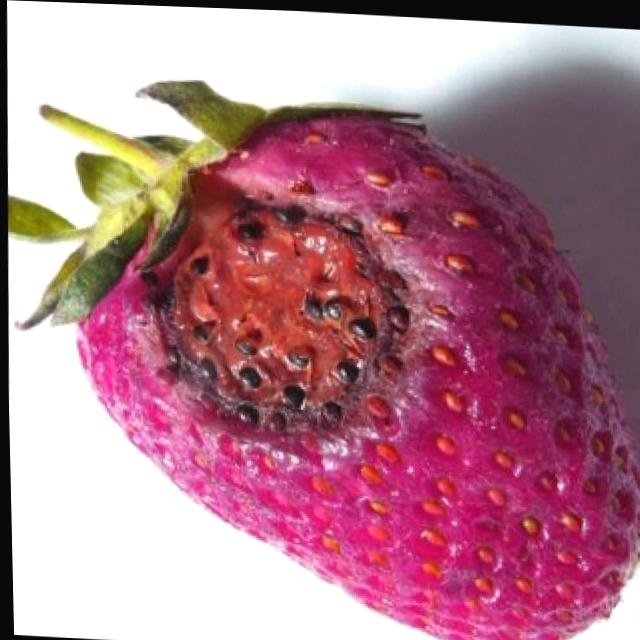Anthracnose Fruit Rot: (115, 152, 450, 474)
